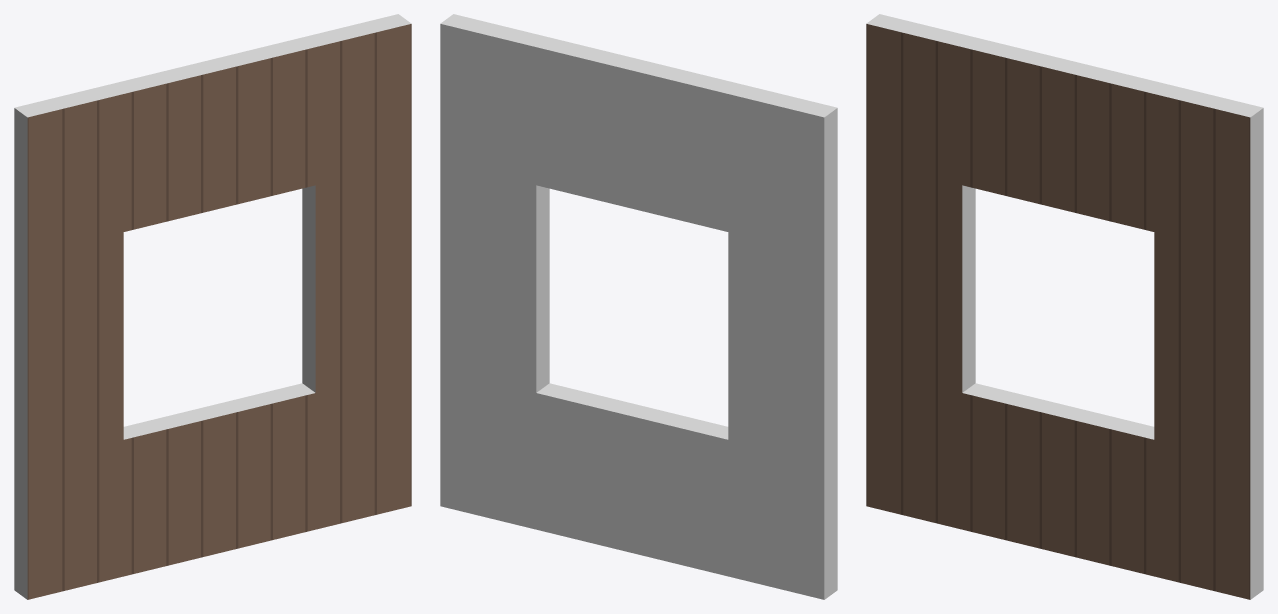
The model's file is Wall1_C9_04.fbx.
3 renders of one model, left to right at view 1: azimuth 30°, elevation 25°; view 2: azimuth 150°, elevation 25°; view 3: azimuth 330°, elevation 25°, orthographic.
Parts seen in each view (by area): view 1: Wall1_C9_04; view 2: Wall1_C9_04; view 3: Wall1_C9_04.
Part boxes in pixels (x1,y1,x2,y2): Wall1_C9_04: (14, 14, 411, 599); Wall1_C9_04: (440, 14, 837, 599); Wall1_C9_04: (866, 14, 1263, 599).
Bounding box in the file's own units: 250 × 300 × 15.
